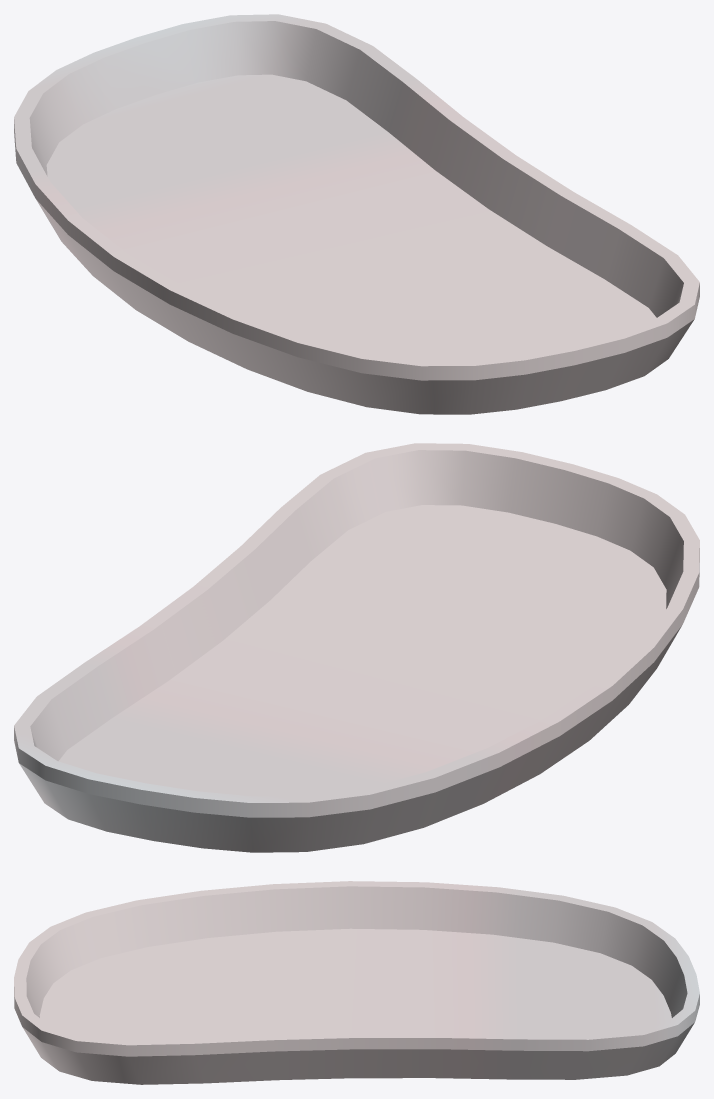
Rendered from Pfb_JLAB_Bowl__2.fbx.
3 views of the same model, one above another, from view 1: azimuth 30°, elevation 25°; view 2: azimuth 150°, elevation 25°; view 3: azimuth 270°, elevation 25° (orthographic). The views are drawn at different scales.
Parts seen in each view (by area): view 1: Metal; view 2: Metal; view 3: Metal.
Boxes of the visible parts, x1,y1,x2,y2 form: Metal: (14, 14, 699, 414); Metal: (14, 443, 699, 852); Metal: (14, 881, 699, 1084).
Size of the model in its own units: 0.1408 by 0.0187 by 0.2486.
Materials: 1 (1 with a texture image).
